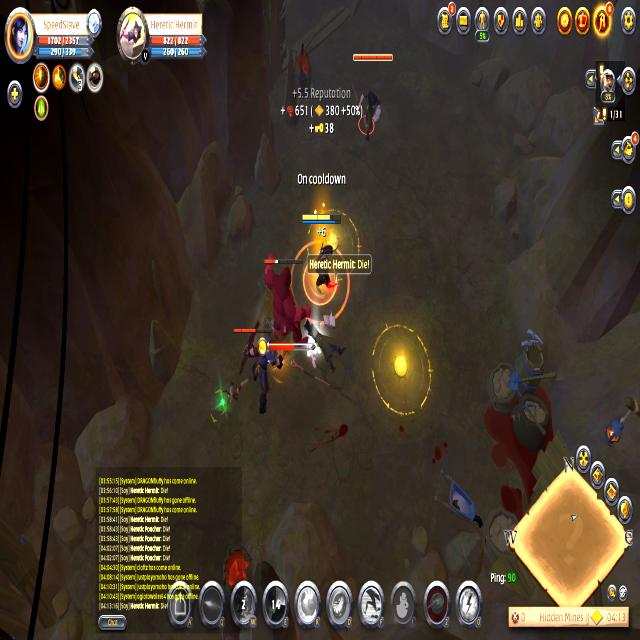ore: (262, 248, 310, 354), (232, 318, 281, 416), (353, 47, 394, 140)
red: (299, 208, 346, 298)
silver: (286, 236, 352, 331)
stone: (302, 327, 324, 369)
